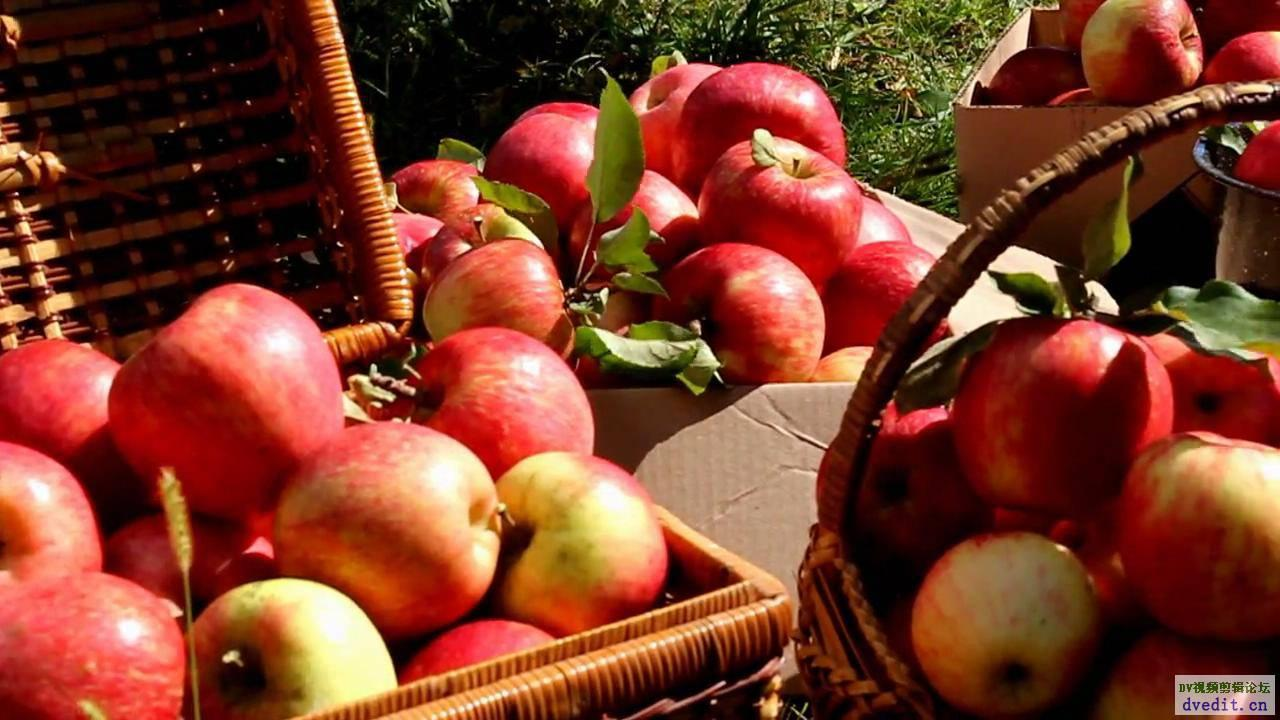apple: (107, 279, 345, 536), (272, 425, 503, 643), (948, 316, 1173, 511), (907, 526, 1106, 715), (1114, 430, 1280, 649), (493, 449, 671, 644), (183, 578, 401, 717), (1, 575, 184, 720), (647, 240, 828, 386), (395, 327, 594, 451), (697, 133, 865, 276), (678, 59, 848, 191), (419, 240, 578, 358), (1, 337, 124, 480), (1, 441, 106, 601), (488, 113, 626, 230), (1079, 1, 1206, 107), (831, 240, 941, 341), (386, 159, 481, 238), (1200, 33, 1280, 92)
